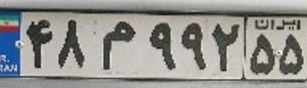character: (98, 16, 138, 75), (55, 14, 91, 72), (210, 17, 242, 75), (178, 16, 209, 75), (23, 14, 55, 70), (146, 19, 177, 73), (277, 32, 307, 78), (248, 30, 277, 77)
